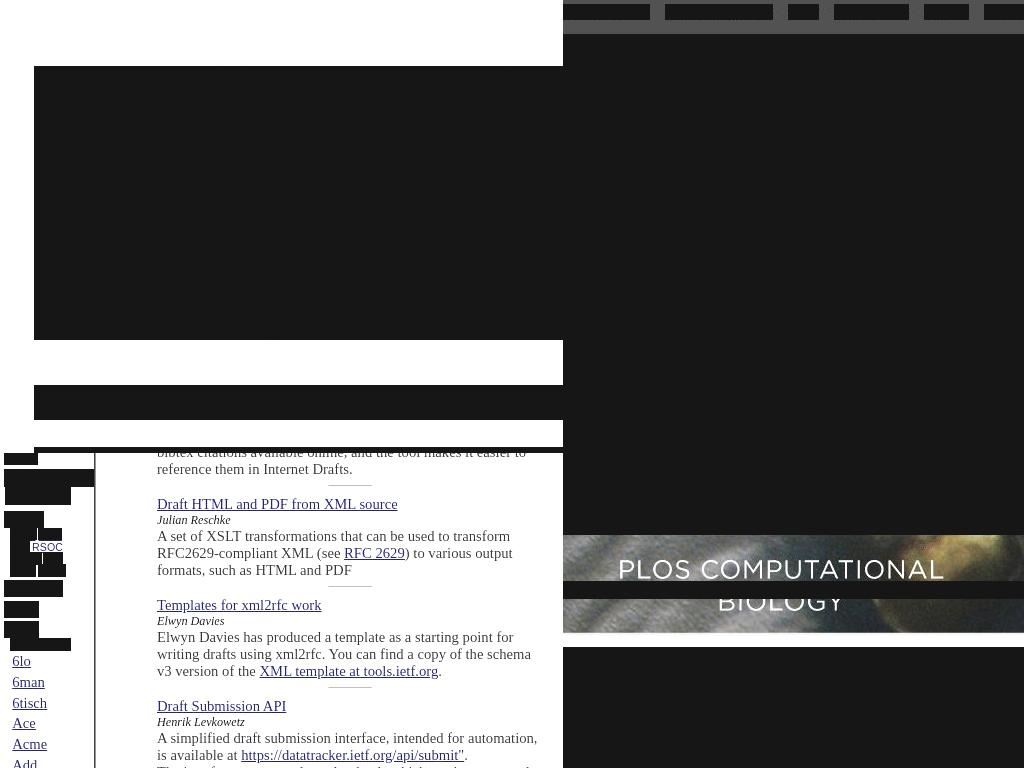button: (563, 469, 1024, 487), (563, 581, 1024, 599), (563, 693, 1024, 711)
field: (5, 487, 71, 505)
heading: (34, 385, 563, 420)
image: (563, 50, 1024, 453), (34, 66, 563, 340), (563, 535, 1024, 647), (563, 647, 1024, 759), (563, 42, 1024, 131), (563, 453, 1024, 535)
link: (156, 495, 398, 512), (241, 746, 465, 763), (259, 662, 438, 679), (156, 596, 322, 613), (156, 697, 286, 714), (665, 4, 773, 20), (563, 4, 650, 20), (834, 4, 909, 20), (344, 544, 406, 561), (4, 580, 63, 597), (10, 638, 71, 651), (924, 4, 969, 20), (984, 4, 1024, 20), (12, 694, 48, 711), (12, 735, 48, 752), (4, 601, 39, 618), (12, 674, 46, 691), (4, 621, 35, 638), (788, 4, 819, 20), (12, 715, 37, 732), (32, 540, 64, 553), (10, 552, 42, 565), (4, 453, 38, 465), (38, 564, 66, 577), (10, 528, 37, 541), (12, 653, 32, 670), (10, 564, 36, 577), (12, 756, 39, 768), (38, 528, 62, 541), (10, 540, 30, 553), (43, 552, 63, 565)
text: (156, 628, 531, 679), (156, 729, 538, 763), (156, 544, 513, 578), (156, 527, 510, 561), (156, 453, 542, 477), (563, 55, 645, 79), (4, 469, 94, 487), (156, 714, 245, 729), (34, 447, 254, 453), (156, 512, 231, 527), (156, 613, 225, 628), (4, 511, 44, 528), (34, 621, 39, 638), (438, 662, 443, 679), (464, 746, 469, 763)
